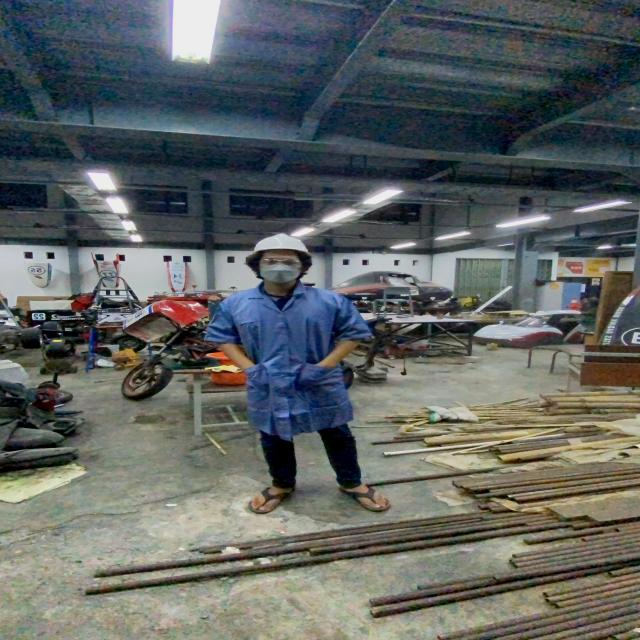face_mask: (259, 256, 307, 283)
glasses: (255, 257, 306, 266)
head_helmet: (252, 232, 312, 254)
person: (214, 231, 398, 522)
